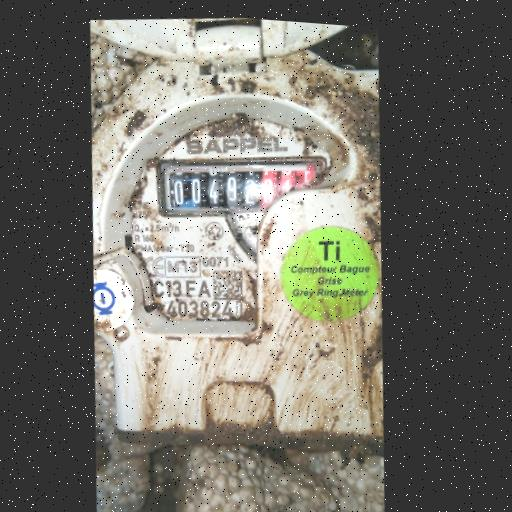0: (184, 171, 207, 210), (167, 170, 188, 209)
2: (237, 170, 261, 209)
4: (202, 172, 223, 209)
8: (257, 169, 279, 211)
9: (221, 169, 243, 208)
border_water_meter_number: (151, 142, 330, 229)
